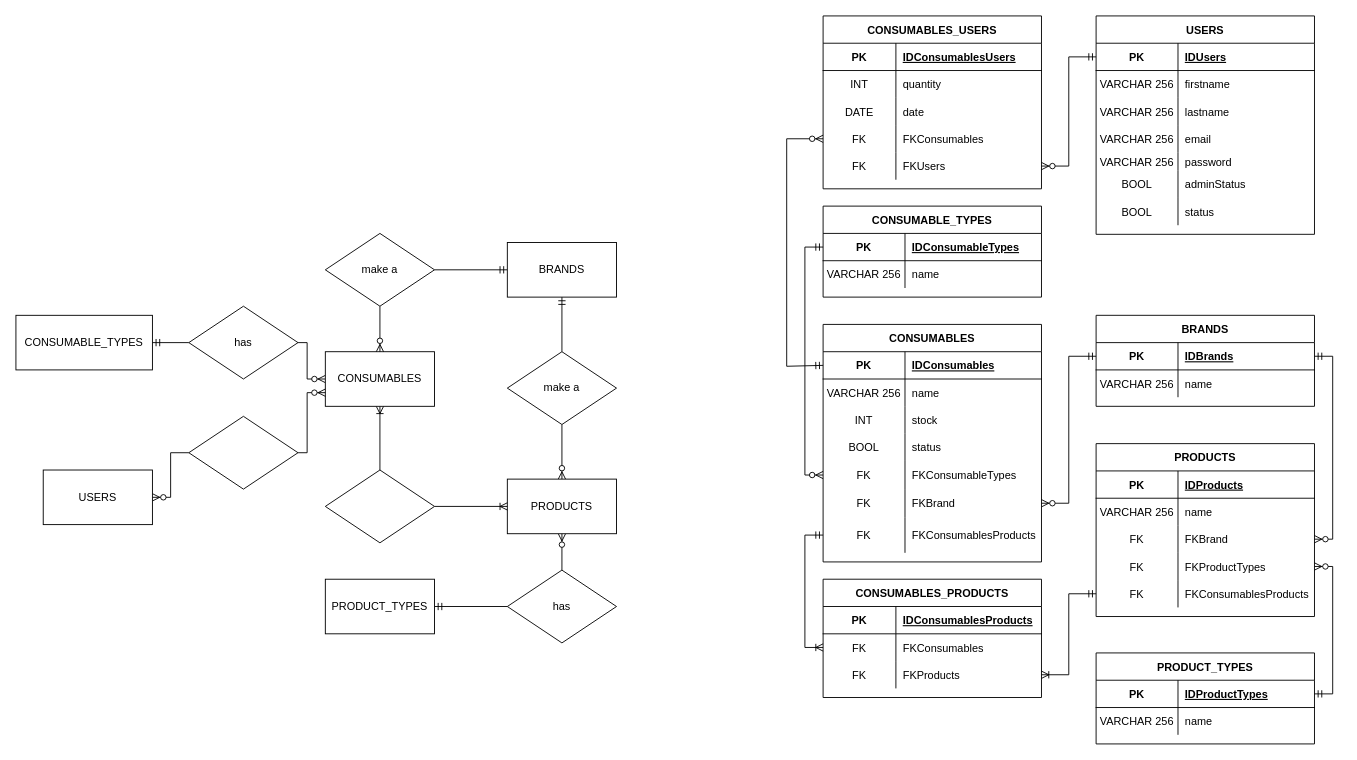
The diagram is 1357 pixels wide and 760 high, and some of its shapes have lost their labels. Each missing label, with the centre of its shape:
"take a" goes at pixel 243 452.
"use a" goes at pixel 379 506.
